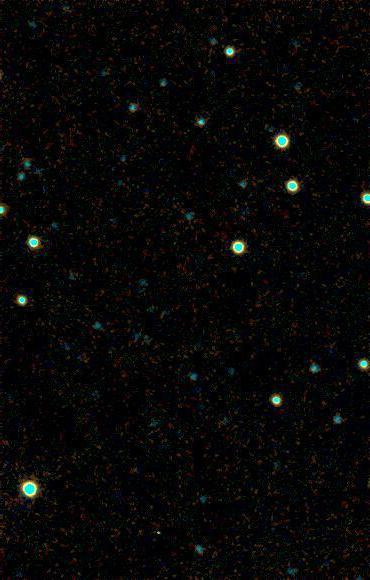star: (143, 519, 173, 549)
